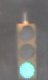Green: (16, 13, 36, 80)
